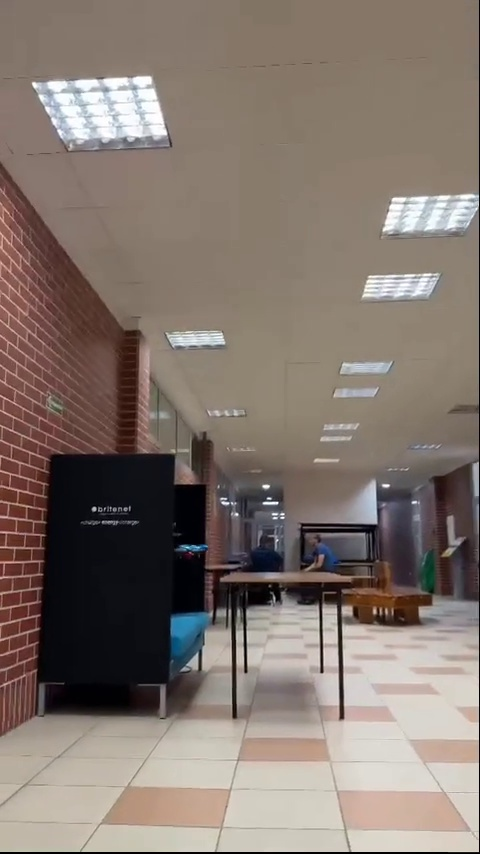drone: (174, 544, 210, 559)
no vest: (248, 533, 286, 575), (310, 537, 341, 573)
